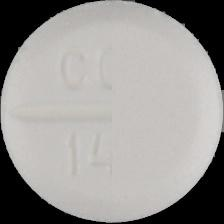0904-1057: (0, 0, 224, 224)
